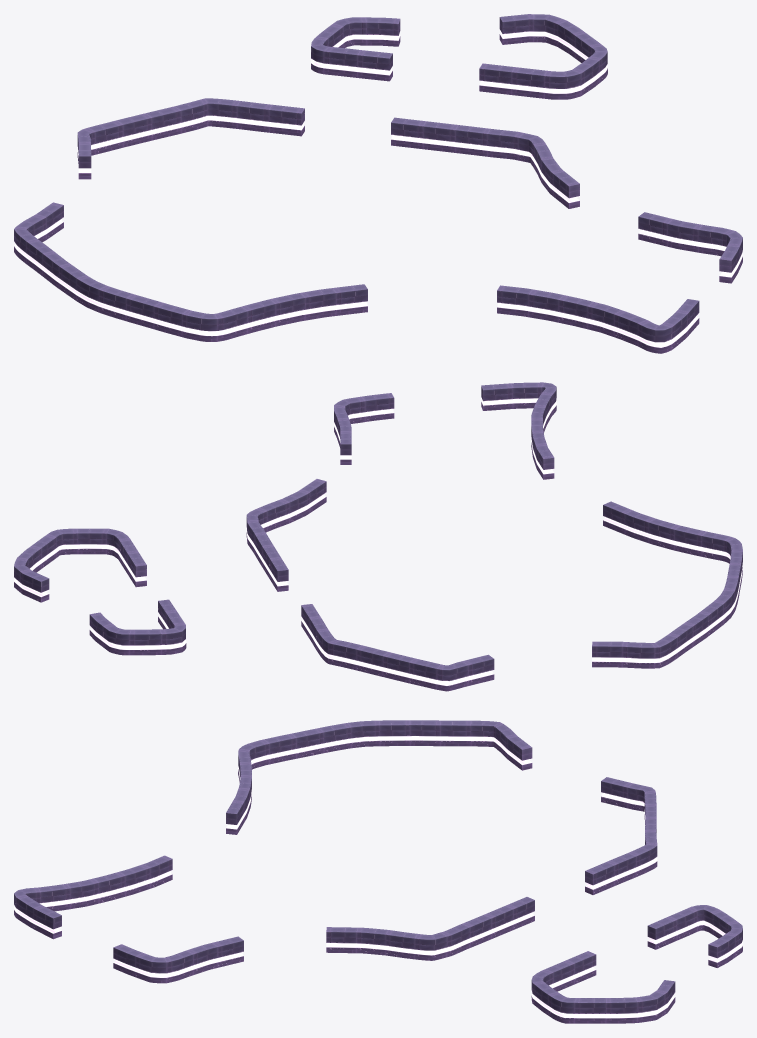
File: obj_fence04.gltf
3 renders of one model, top to bottom at view 1: azimuth 30°, elevation 25°; view 2: azimuth 150°, elevation 25°; view 3: azimuth 270°, elevation 25°, orthographic. The views are drawn at different scales.
Parts seen in each view (by area): view 1: obj_fence04; view 2: obj_fence04; view 3: obj_fence04.
Part boxes in pixels (x1,y1,x2,y2): obj_fence04: (14,14,742,353); obj_fence04: (14,382,742,691); obj_fence04: (14,720,742,1023).
Size of what is drawn, in the model's own units: 46.67 by 1.61 by 50.89.
Materials: 2 (1 with a texture image).
